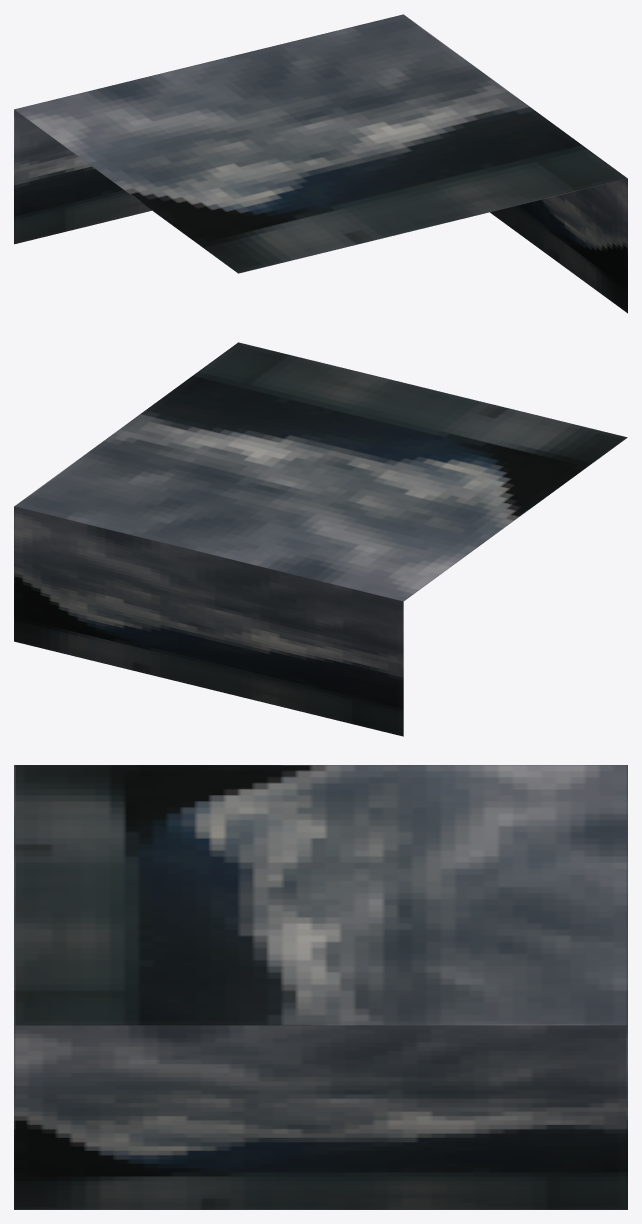
Rendered from env_skybox.glb.
3 renders of one model, top to bottom at view 1: azimuth 30°, elevation 25°; view 2: azimuth 150°, elevation 25°; view 3: azimuth 270°, elevation 25°, orthographic. The views are drawn at different scales.
Parts seen in each view (by area): view 1: env_skybox; view 2: env_skybox; view 3: env_skybox.
Part boxes in pixels (bbox=[...]): env_skybox: bbox=[14, 14, 627, 313]; env_skybox: bbox=[14, 342, 627, 736]; env_skybox: bbox=[14, 765, 627, 1209].
Bounding box in the file's own units: 0.065 × 0.0215 × 0.0648.
Materials: 1 (1 with a texture image).
